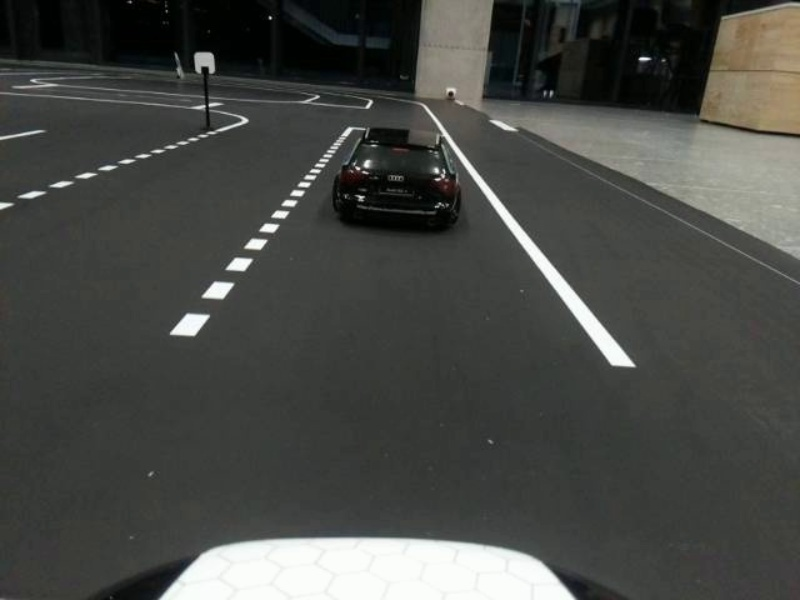car: (333, 119, 474, 233)
